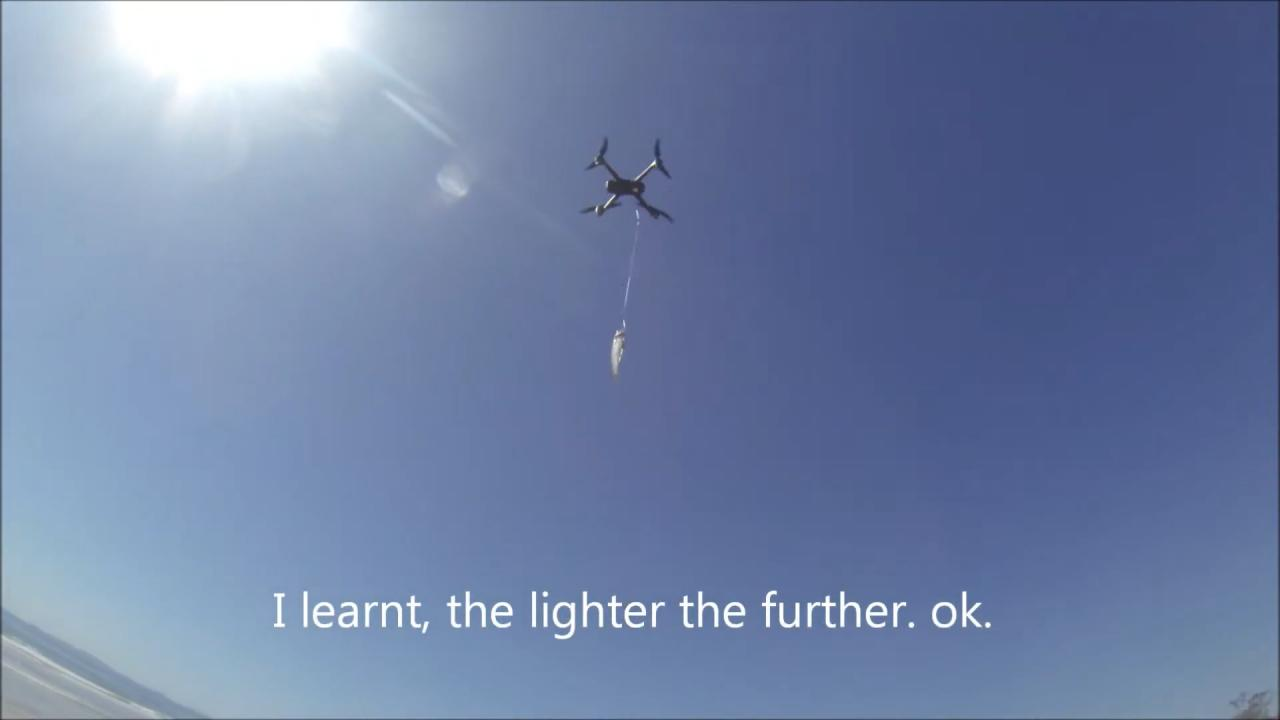Drone: (567, 128, 690, 237)
